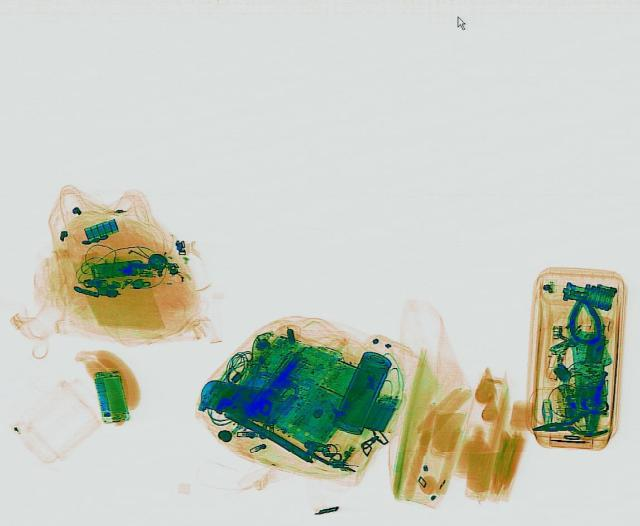Pliers: (530, 406, 610, 441)
